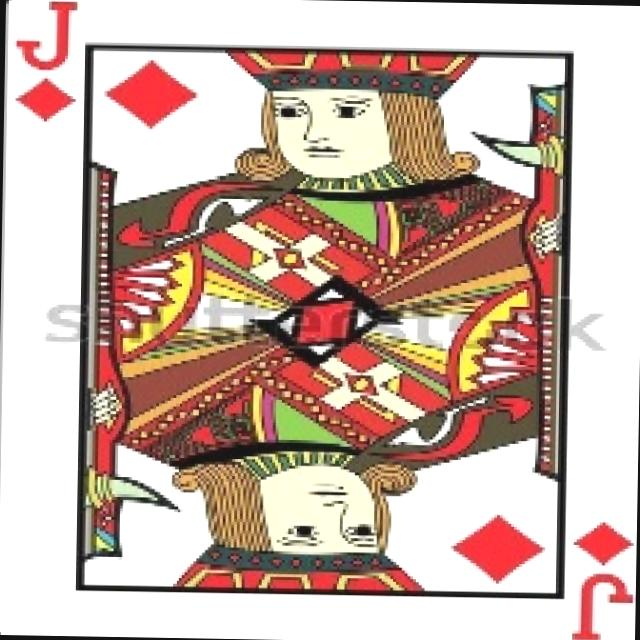Diamond: (450, 513, 545, 585), (104, 59, 198, 130), (573, 519, 634, 566), (16, 76, 78, 122)
Jack: (15, 0, 77, 70), (570, 572, 633, 640)
